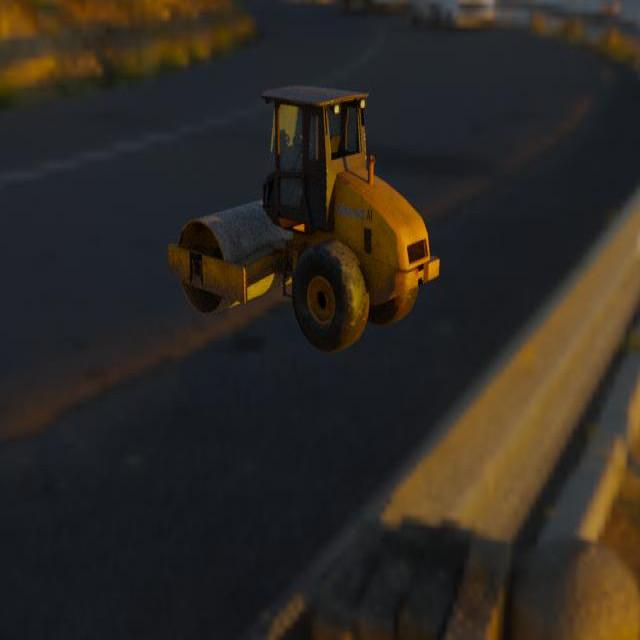Roller: (167, 85, 439, 354)
